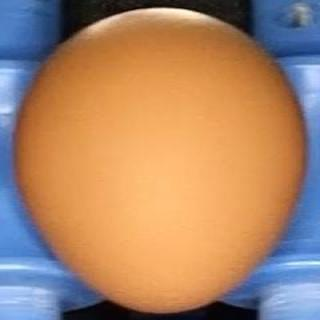Telur: (13, 6, 308, 315)
